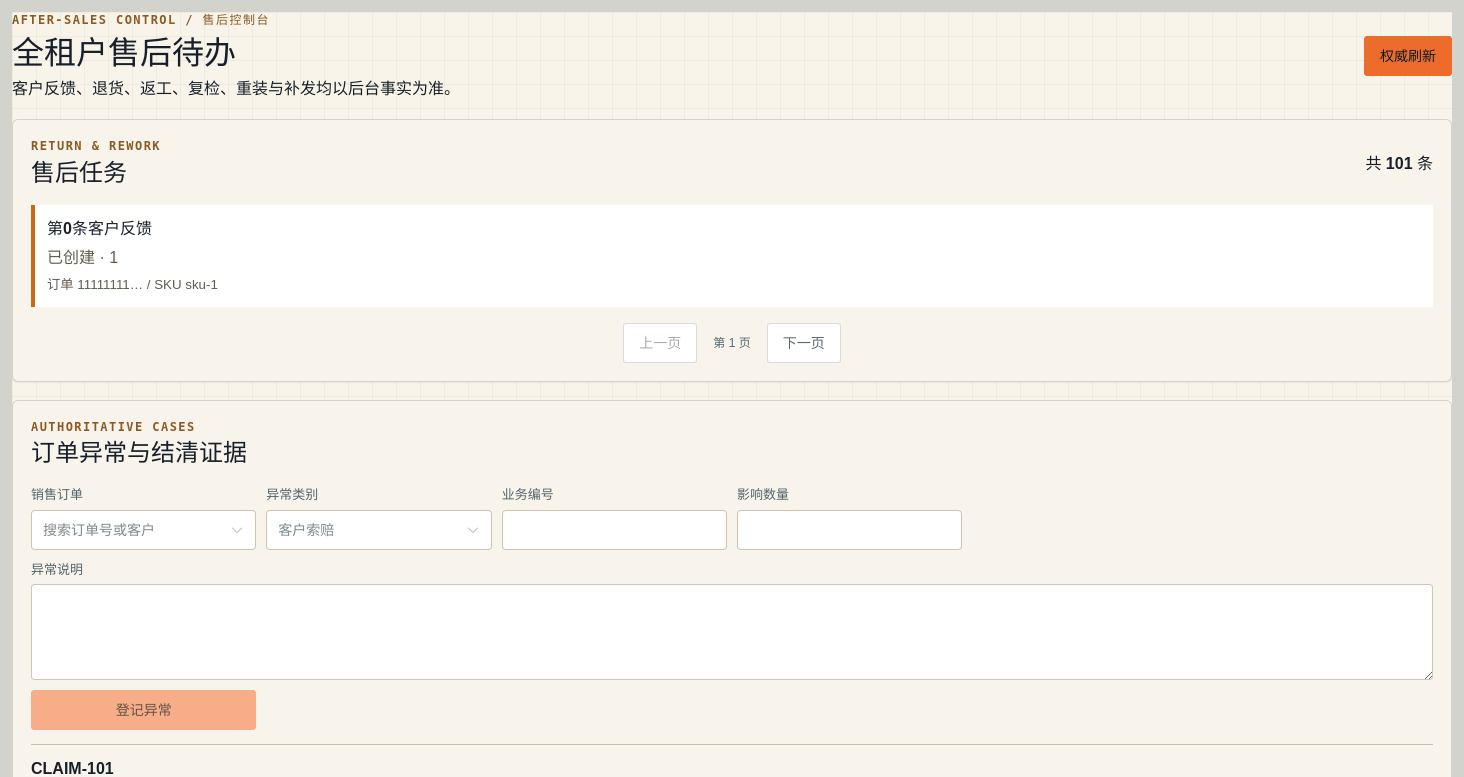
全租户售后待办工作台 › uses real pagination so the one-hundred-and-first case remains reachable
Click the button with test id "after-sales-next-page" at (804, 343), box [767,323,841,363]
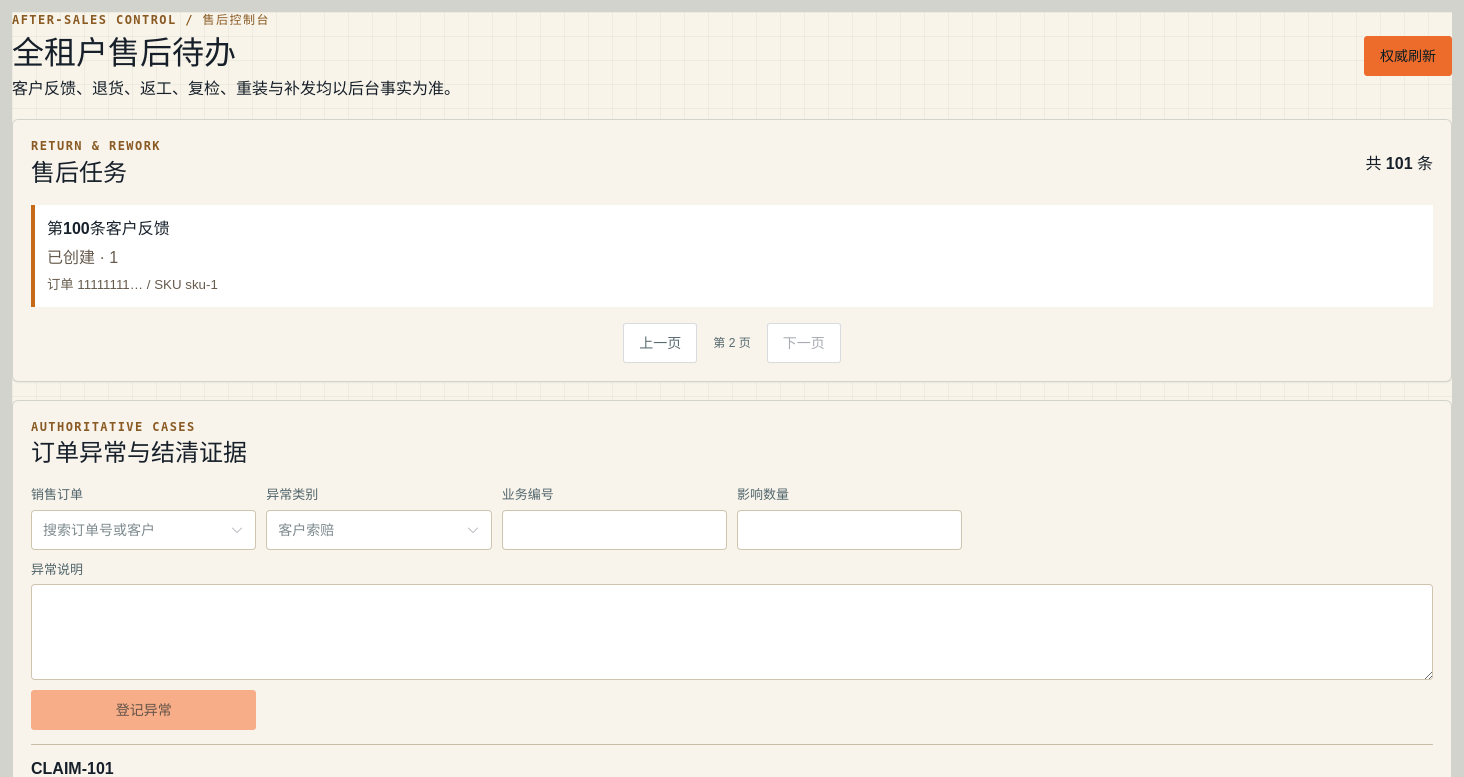
Result: the text "第100条客户反馈" is shown at [47,220,170,237]
